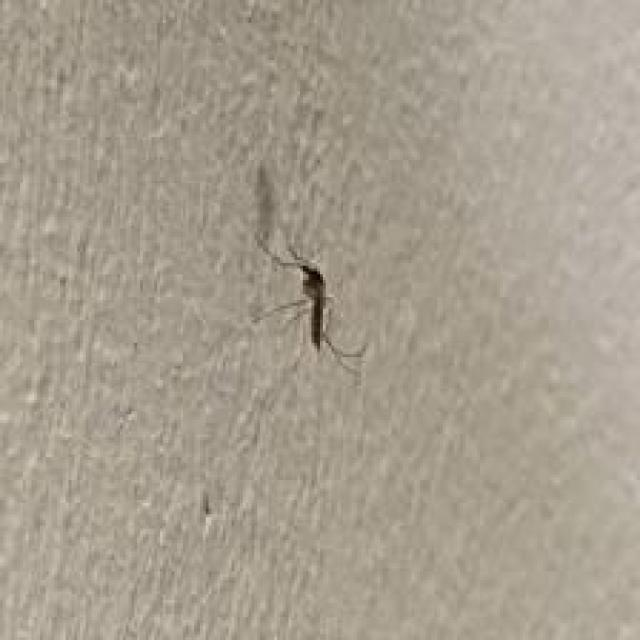Culex: (247, 160, 370, 377)
